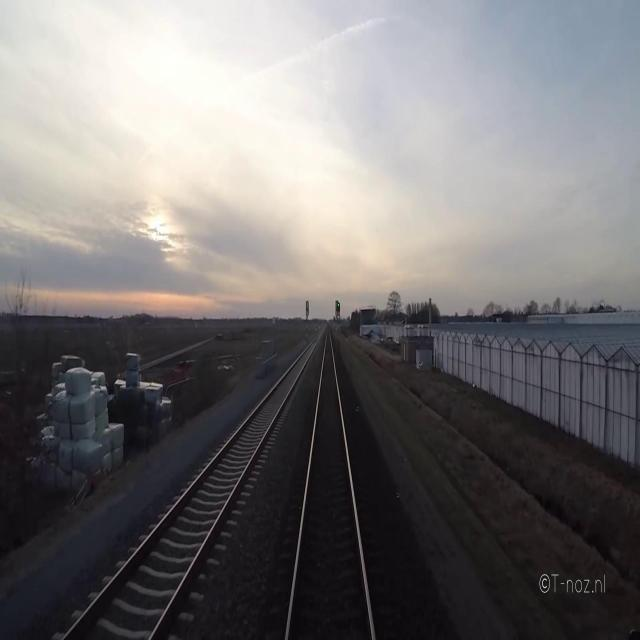rail-track: (65, 339, 316, 639), (289, 333, 371, 639)
